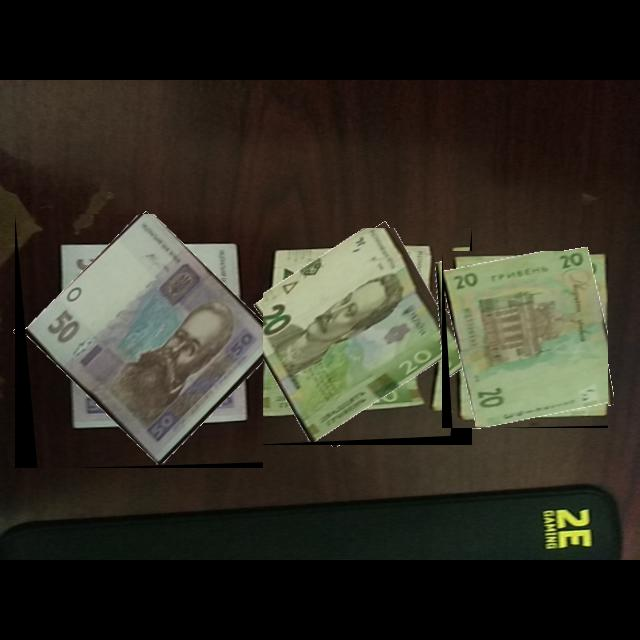20uah: (245, 228, 463, 444), (444, 251, 609, 429)
50uah: (24, 214, 264, 466)
